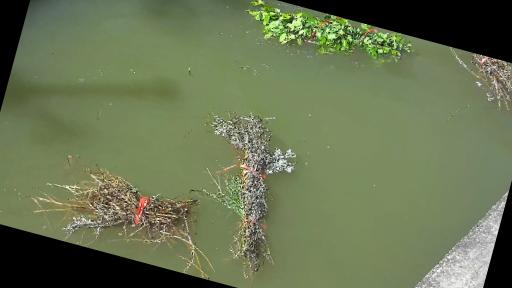twig: (169, 88, 314, 288), (26, 139, 208, 261), (238, 0, 442, 92), (452, 51, 512, 126)
